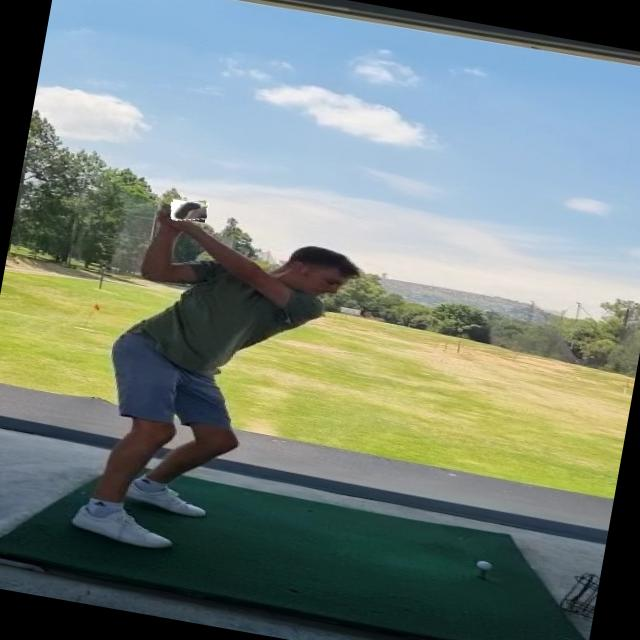club head: (168, 197, 208, 224)
